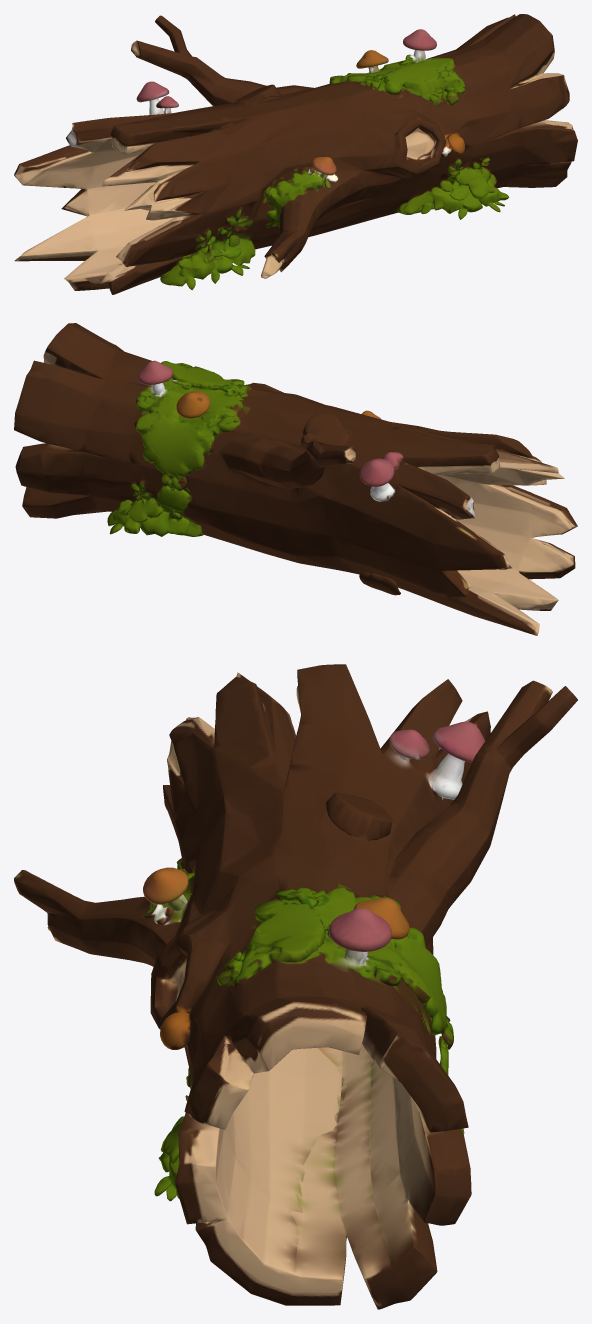
The model's file is log-fallen-a.glb.
3 views of the same model, one above another, from view 1: azimuth 30°, elevation 25°; view 2: azimuth 150°, elevation 25°; view 3: azimuth 270°, elevation 25° (orthographic). The views are drawn at different scales.
Visible parts, largest first — view 1: node_0; view 2: node_0; view 3: node_0.
Boxes of the visible parts, <box> form: node_0: <box>14,14,577,294</box>; node_0: <box>14,323,577,635</box>; node_0: <box>14,664,577,1309</box>.
Size of the model in its own units: 1.11 by 0.4137 by 0.6055.
Materials: 1 (1 with a texture image).
